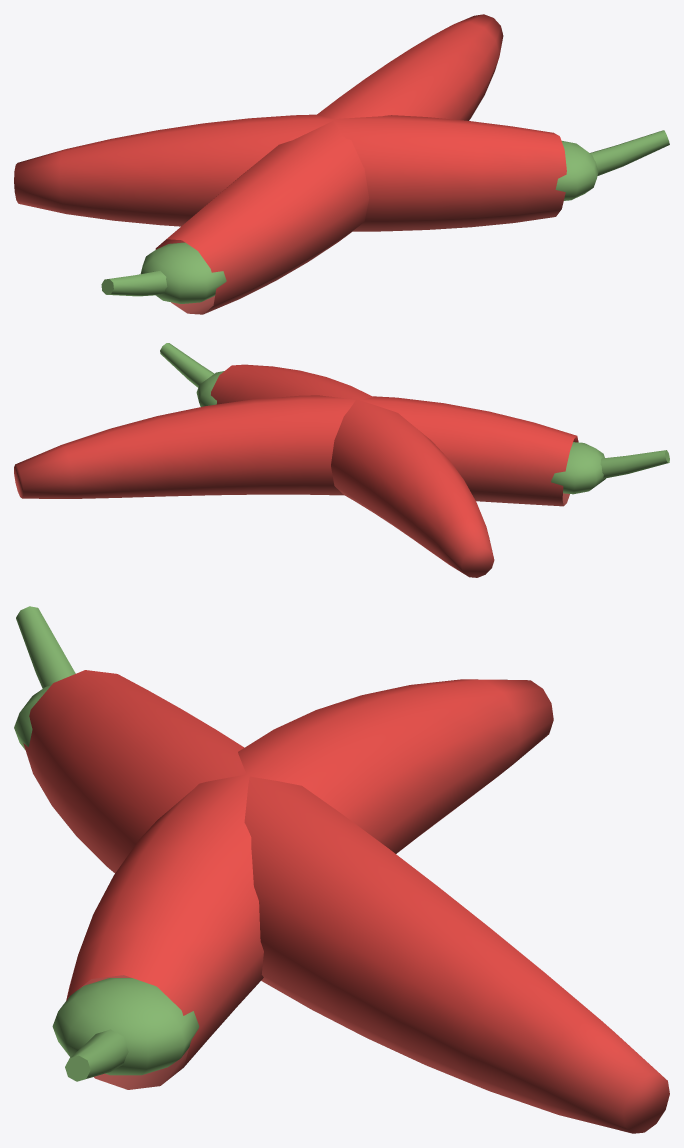
The model's file is ENV_Dimsum_Chili.fbx.
3 renders of one model, top to bottom at view 1: azimuth 30°, elevation 25°; view 2: azimuth 150°, elevation 25°; view 3: azimuth 270°, elevation 25°, orthographic. The views are drawn at different scales.
Visible parts, largest first — view 1: ENV_Dimsum_Chili; view 2: ENV_Dimsum_Chili; view 3: ENV_Dimsum_Chili.
Part boxes in pixels (x1,y1,x2,y2): ENV_Dimsum_Chili: [14, 14, 669, 314]; ENV_Dimsum_Chili: [14, 343, 669, 577]; ENV_Dimsum_Chili: [14, 606, 669, 1133].
Bounding box in the file's own units: 1.62 × 0.2933 × 0.9823.
